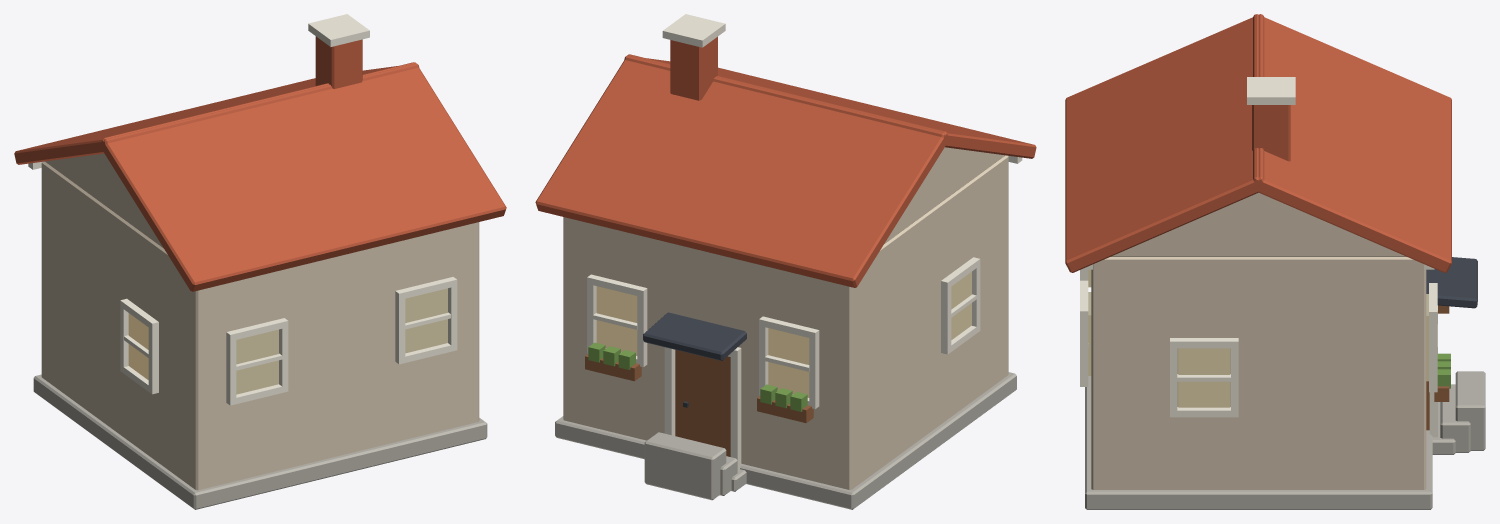
File: house_cottage_gabled.glb
The picture shows the model from 3 angles, left to right: view 1: azimuth 30°, elevation 25°; view 2: azimuth 150°, elevation 25°; view 3: azimuth 270°, elevation 25°; orthographic projection. The views are drawn at different scales.
Parts seen in each view (by area): view 1: Building_Cottage_Gabled_Cream, Building_Cottage_Gabled_Roof_Red, Building_Cottage_Gabled_Concrete, Building_Cottage_Gabled_Trim, Building_Cottage_Gabled_Glass; view 2: Building_Cottage_Gabled_Cream, Building_Cottage_Gabled_Roof_Red, Building_Cottage_Gabled_Concrete, Building_Cottage_Gabled_Trim, Building_Cottage_Gabled_Wood, Building_Cottage_Gabled_Glass, Building_Cottage_Gabled_Roof, Building_Cottage_Gabled_Green; view 3: Building_Cottage_Gabled_Cream, Building_Cottage_Gabled_Roof_Red, Building_Cottage_Gabled_Concrete, Building_Cottage_Gabled_Trim, Building_Cottage_Gabled_Glass, Building_Cottage_Gabled_Roof, Building_Cottage_Gabled_Wood, Building_Cottage_Gabled_Green.
Part boxes in pixels (x1,y1,x2,y2): Building_Cottage_Gabled_Cream: [41, 153, 479, 490]; Building_Cottage_Gabled_Roof_Red: [14, 36, 506, 291]; Building_Cottage_Gabled_Concrete: [33, 374, 487, 509]; Building_Cottage_Gabled_Trim: [28, 14, 457, 405]; Building_Cottage_Gabled_Glass: [128, 288, 447, 394]; Building_Cottage_Gabled_Cream: [563, 147, 1008, 489]; Building_Cottage_Gabled_Roof_Red: [535, 36, 1036, 287]; Building_Cottage_Gabled_Concrete: [555, 372, 1016, 509]; Building_Cottage_Gabled_Trim: [587, 14, 1022, 470]; Building_Cottage_Gabled_Wood: [585, 350, 813, 456]; Building_Cottage_Gabled_Glass: [596, 271, 971, 397]; Building_Cottage_Gabled_Roof: [643, 312, 746, 360]; Building_Cottage_Gabled_Green: [588, 342, 807, 411]; Building_Cottage_Gabled_Cream: [1091, 192, 1426, 489]; Building_Cottage_Gabled_Roof_Red: [1065, 14, 1451, 272]; Building_Cottage_Gabled_Concrete: [1085, 371, 1485, 509]; Building_Cottage_Gabled_Trim: [1080, 77, 1437, 437]; Building_Cottage_Gabled_Glass: [1088, 269, 1428, 407]; Building_Cottage_Gabled_Roof: [1426, 257, 1477, 308]; Building_Cottage_Gabled_Wood: [1426, 305, 1449, 430]; Building_Cottage_Gabled_Green: [1437, 353, 1450, 388].
Size of the model in its own units: 4.65 by 5.15 by 5.02.
